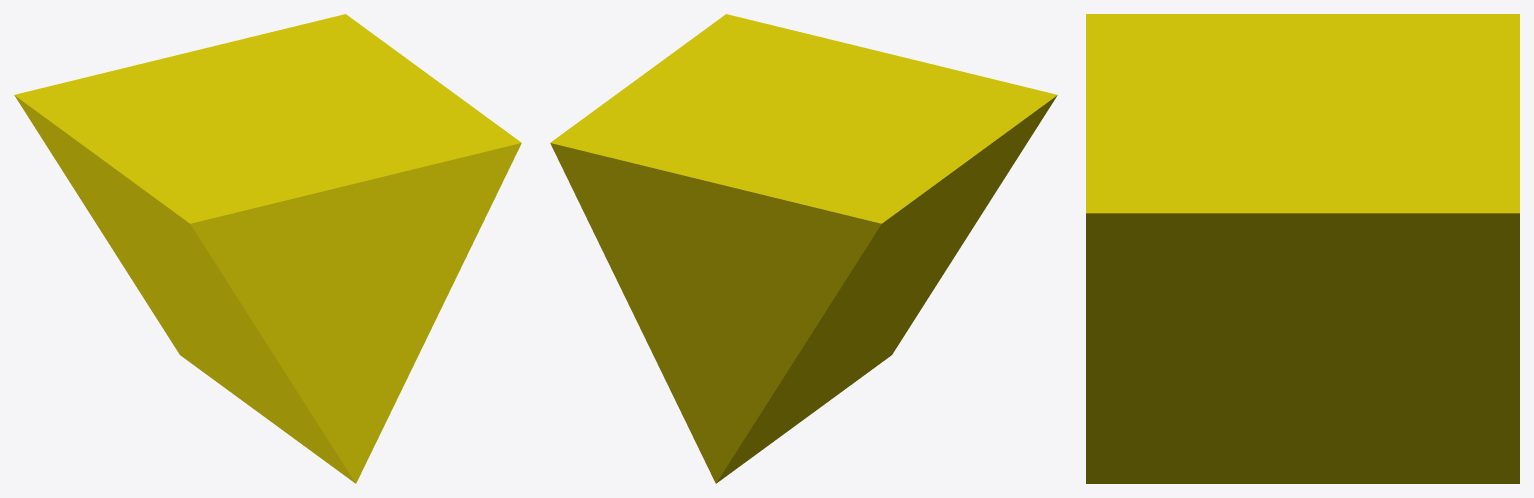
Rendered from NextButtonCollision.fbx.
3 renders of one model, left to right at view 1: azimuth 30°, elevation 25°; view 2: azimuth 150°, elevation 25°; view 3: azimuth 270°, elevation 25°, orthographic. The views are drawn at different scales.
Parts seen in each view (by area): view 1: Circle.001; view 2: Circle.001; view 3: Circle.001.
Part boxes in pixels (x1,y1,x2,y2): Circle.001: (14, 14, 521, 483); Circle.001: (550, 14, 1057, 483); Circle.001: (1086, 14, 1519, 483).
Size of the model in its own units: 1.73 by 1.5 by 1.59.
